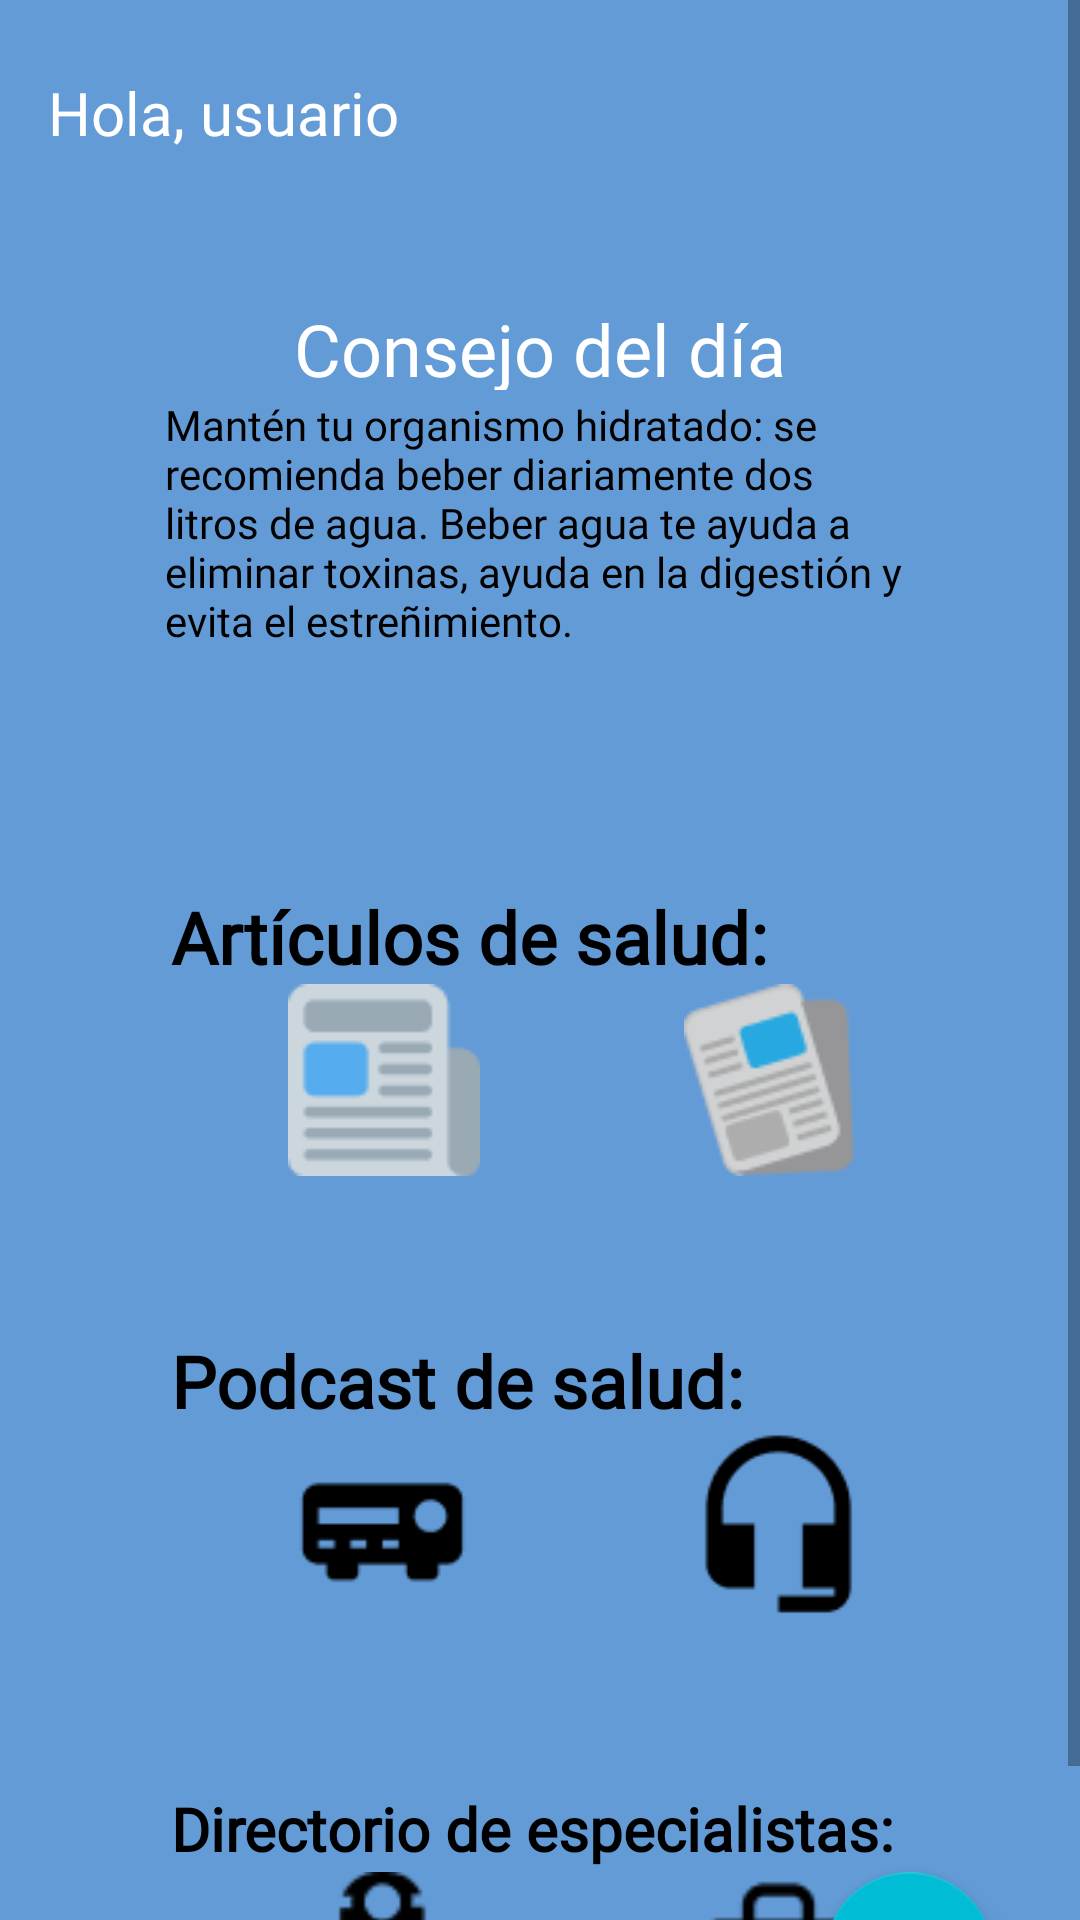

Icon click points for this 1080 x 1920 phone screenshot, format point (x, y):
periodicoa: point (384, 1080)
periodicob: point (768, 1080)
podcastb: point (778, 1524)
